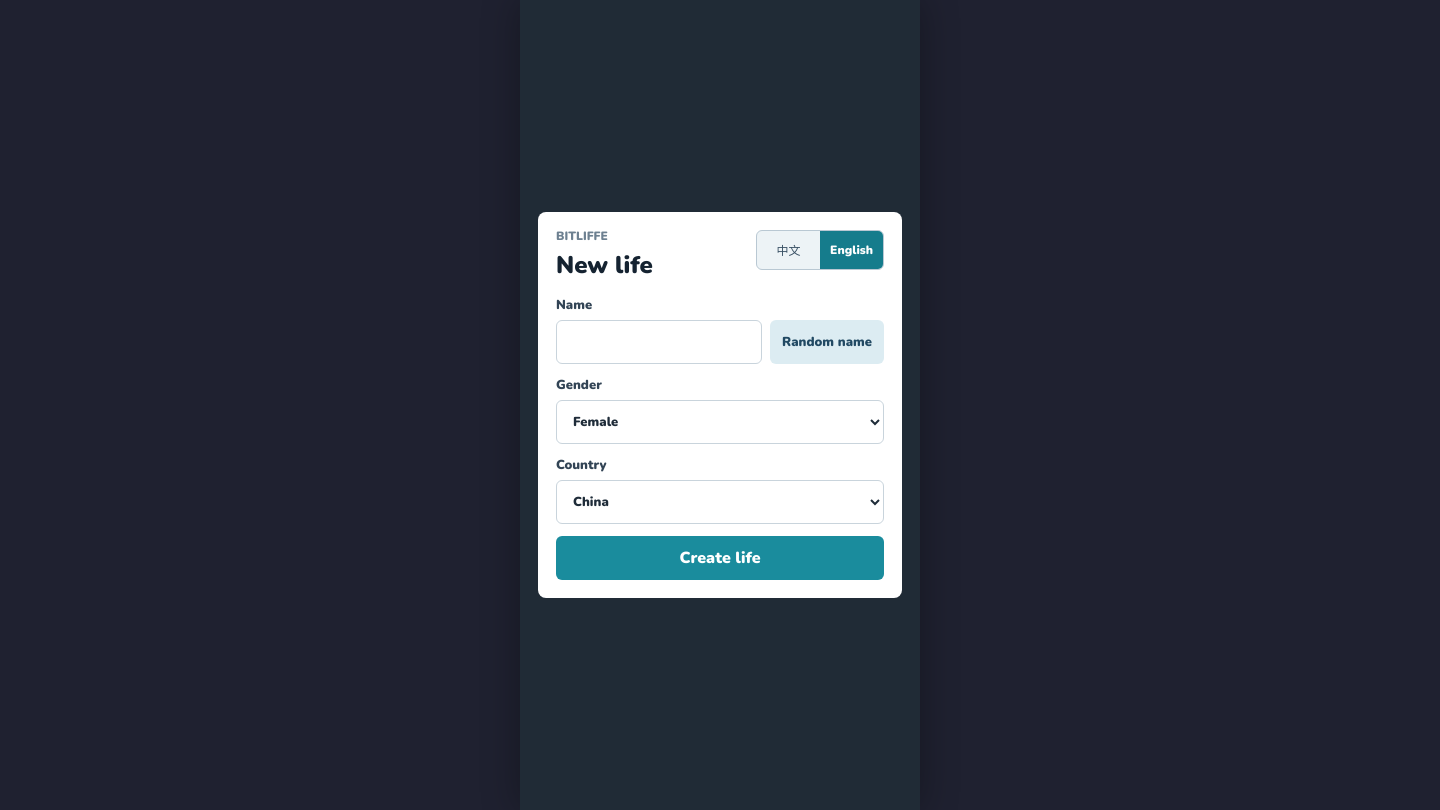
Test: P1 app integration › keeps the four status bars in the fixed bottom area
Step 1. Type "Mina Lin" into the field labelled "Name" → coordinates (659, 342), box [556,320,762,364]
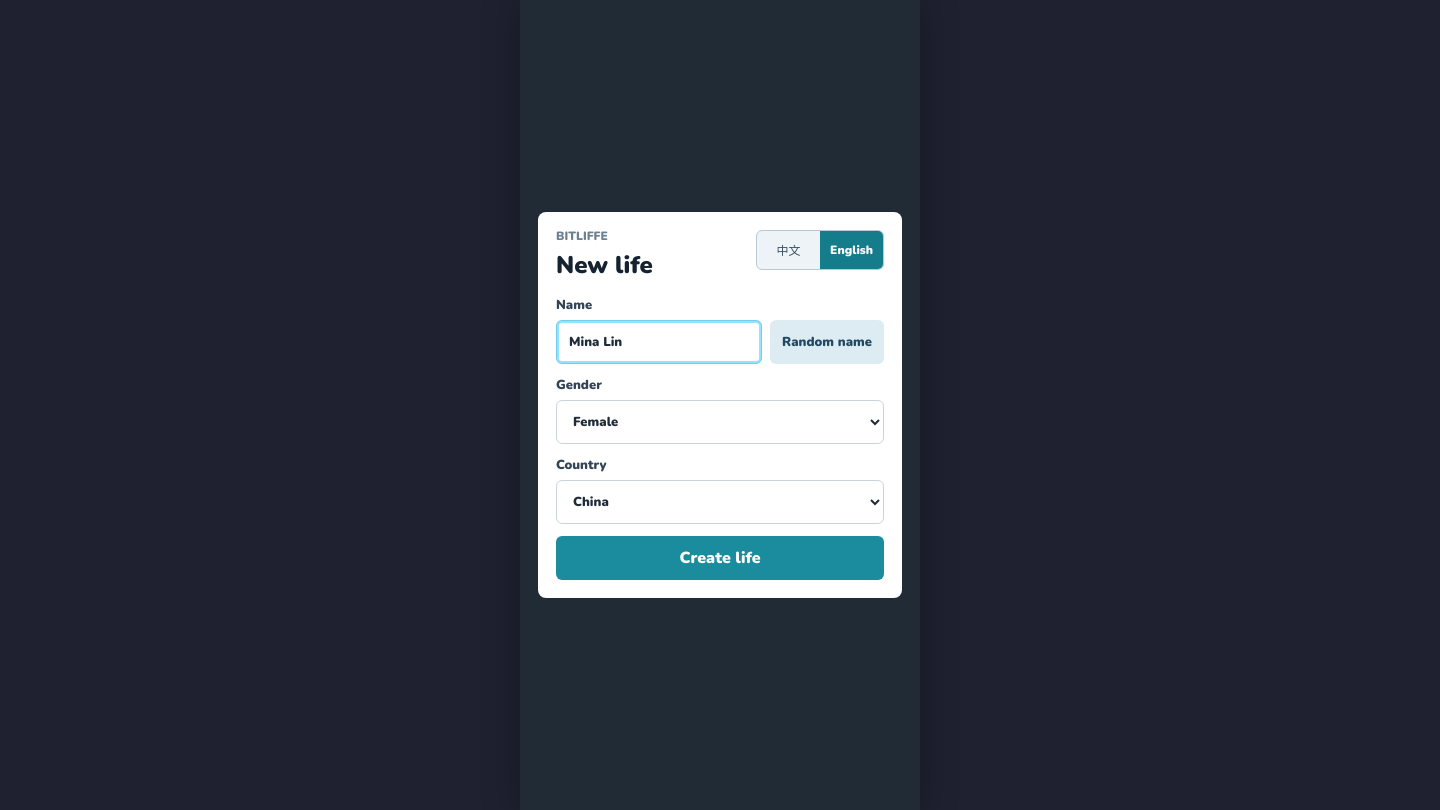
Step 2. Click the button "Create life" → coordinates (720, 558), box [556,536,884,580]
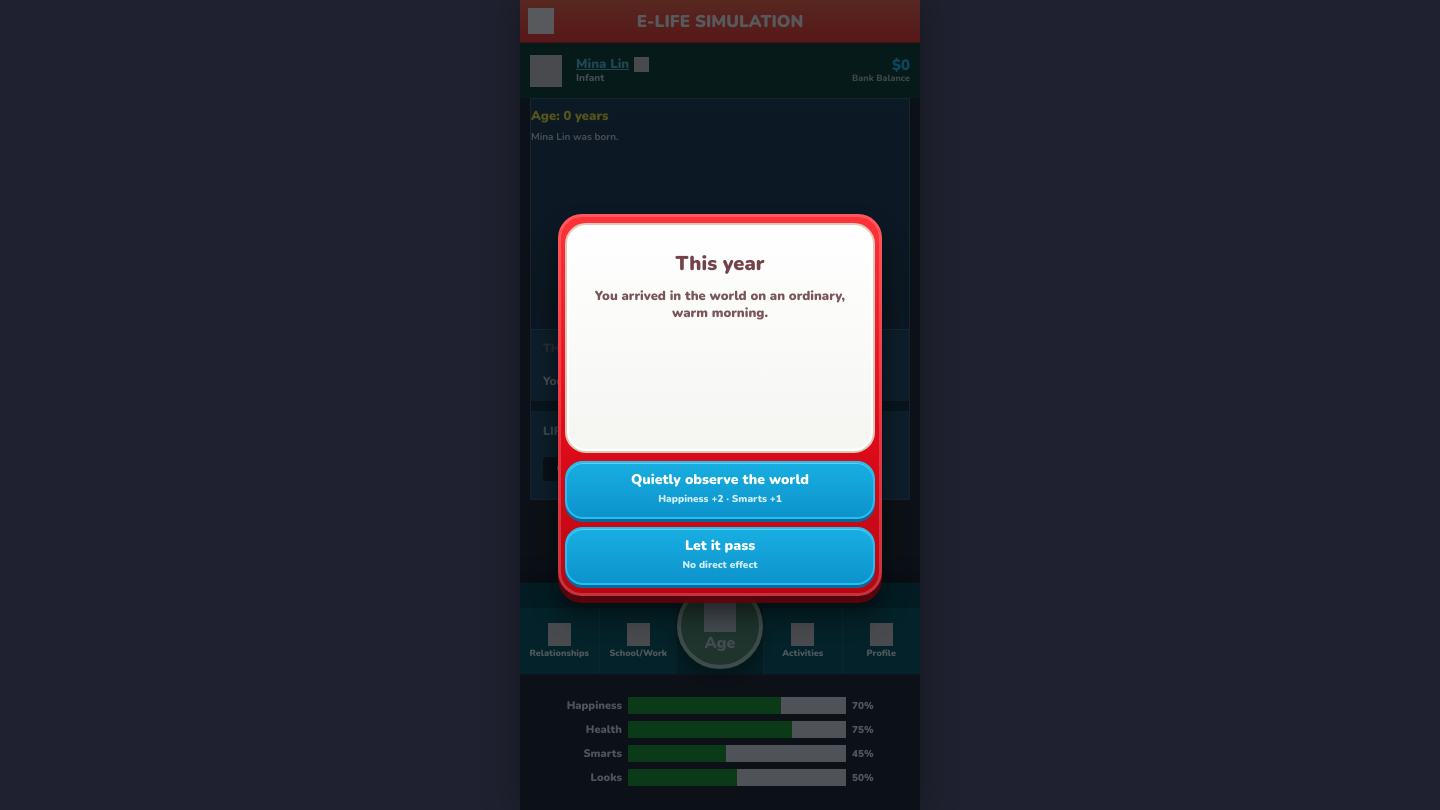
Expected: the element named "stats" is shown, [520,674,920,809]
